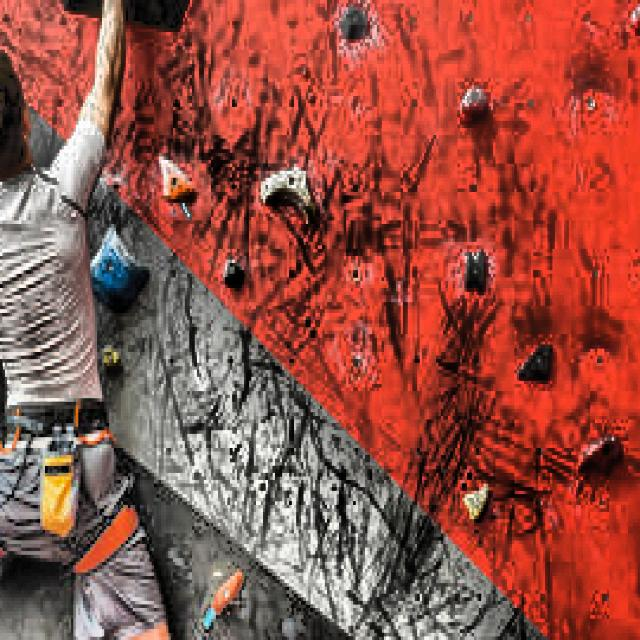Hold: (90, 224, 149, 313), (261, 167, 318, 224), (578, 434, 621, 476), (159, 156, 194, 199), (457, 85, 491, 128), (211, 569, 244, 612), (519, 345, 552, 380), (462, 484, 491, 523), (465, 252, 486, 292), (341, 7, 367, 39), (223, 256, 244, 288), (102, 345, 121, 370)
